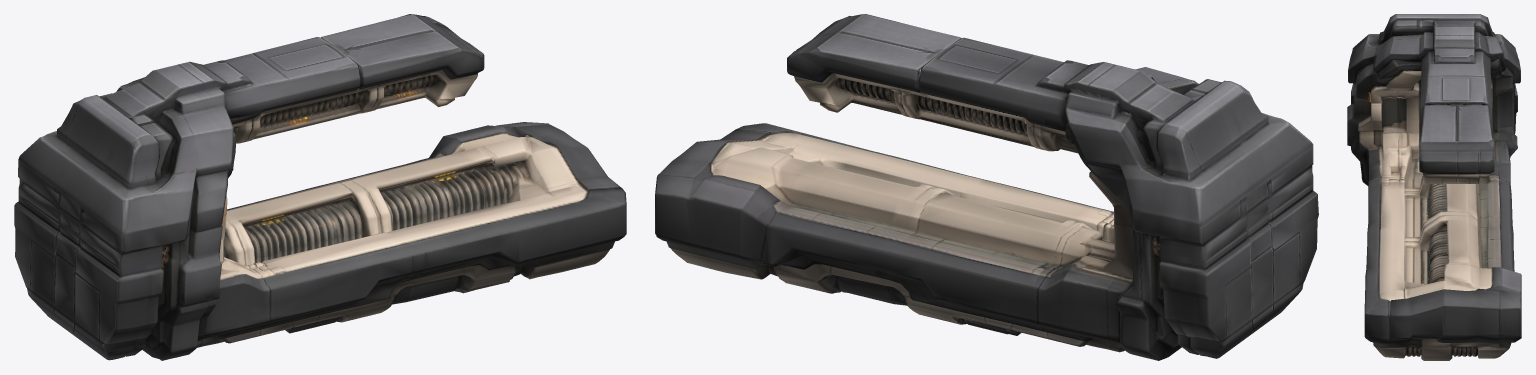
3 renders of one model, left to right at view 1: azimuth 30°, elevation 25°; view 2: azimuth 150°, elevation 25°; view 3: azimuth 270°, elevation 25°, orthographic. The views are drawn at different scales.
Visible parts, largest first — view 1: tripo_node_c1e805cc-a217-48ee-a645-a7a941f4d08d; view 2: tripo_node_c1e805cc-a217-48ee-a645-a7a941f4d08d; view 3: tripo_node_c1e805cc-a217-48ee-a645-a7a941f4d08d.
Boxes of the visible parts, <box> form: tripo_node_c1e805cc-a217-48ee-a645-a7a941f4d08d: <box>14,14,626,360</box>; tripo_node_c1e805cc-a217-48ee-a645-a7a941f4d08d: <box>655,14,1318,360</box>; tripo_node_c1e805cc-a217-48ee-a645-a7a941f4d08d: <box>1347,14,1521,360</box>.
Bounding box in the file's own units: 0.9784 × 0.4538 × 0.3657.
Materials: 1 (1 with a texture image).
